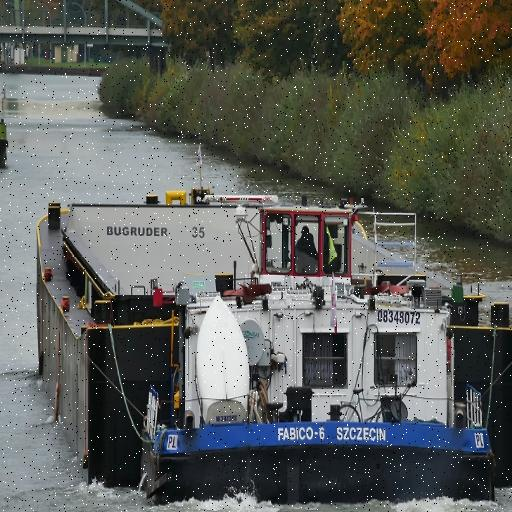tugboat: (135, 192, 502, 512)
